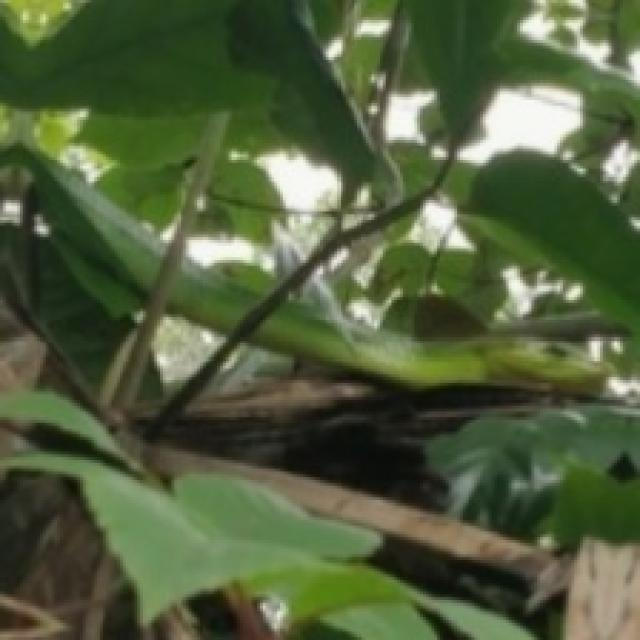red-tailed green ratsnake: (249, 300, 603, 391), (169, 260, 271, 331)
